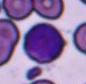L: (24, 22, 64, 64)
